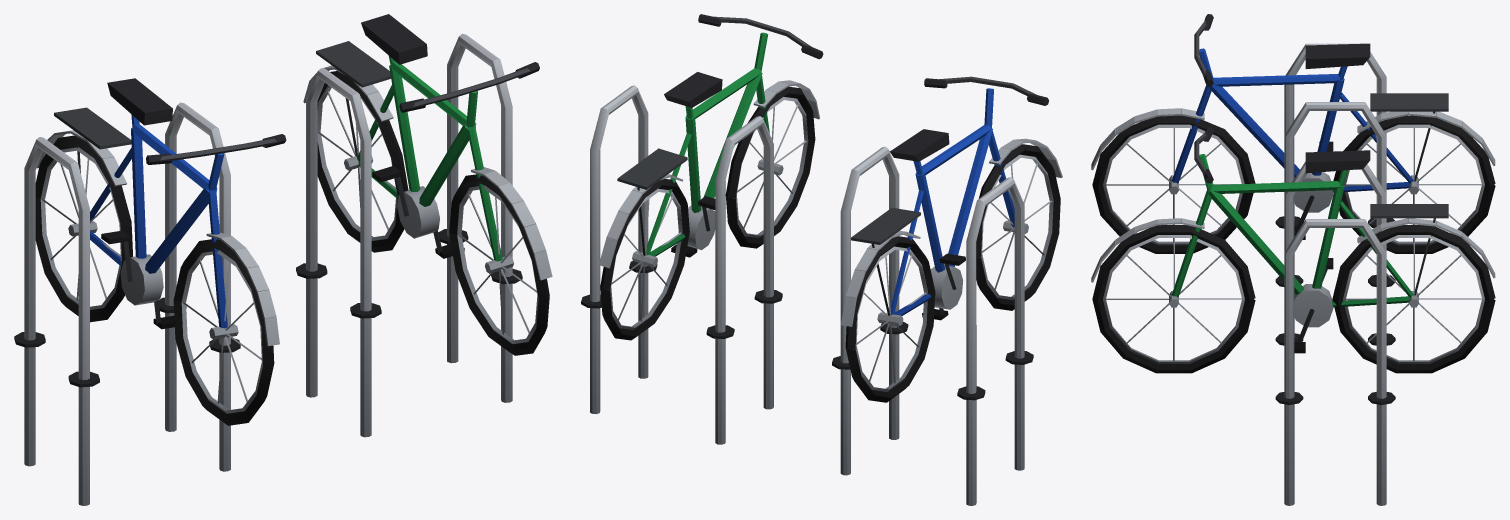
Rendered from Bike_Rack.fbx.
3 views of the same model, side by side, from view 1: azimuth 30°, elevation 25°; view 2: azimuth 150°, elevation 25°; view 3: azimuth 270°, elevation 25° (orthographic). The views are drawn at different scales.
Visible parts, largest first — view 1: Bike_Rack_LOD0; view 2: Bike_Rack_LOD0; view 3: Bike_Rack_LOD0.
Part boxes in pixels (box(x1,y1,x2,y2)): Bike_Rack_LOD0: box(14, 14, 552, 505); Bike_Rack_LOD0: box(581, 14, 1062, 505); Bike_Rack_LOD0: box(1091, 14, 1495, 505).
Size of what is drawn, in the model's own units: 1.92 by 1.54 by 1.75.
Materials: 1 (1 with a texture image).
